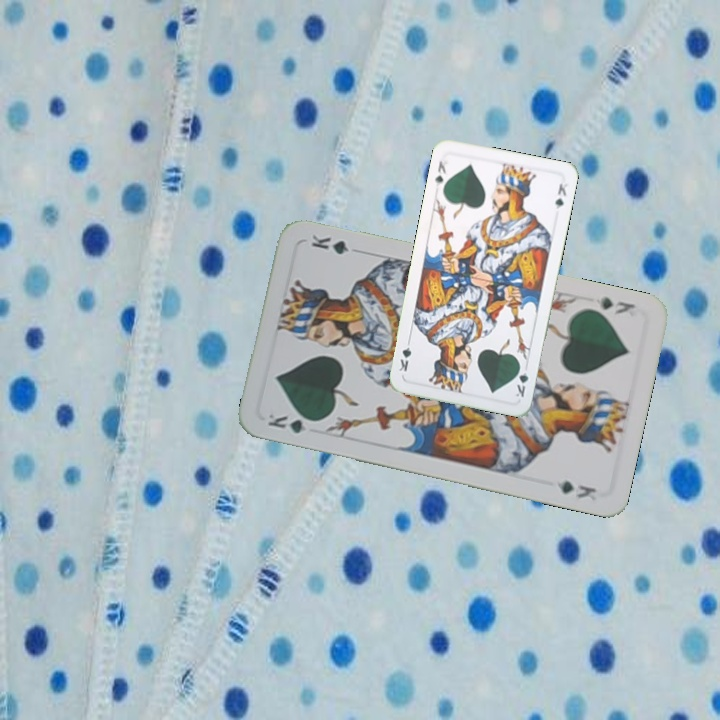GK: (263, 409, 321, 436), (595, 293, 638, 317), (511, 360, 531, 400), (431, 156, 448, 189)
